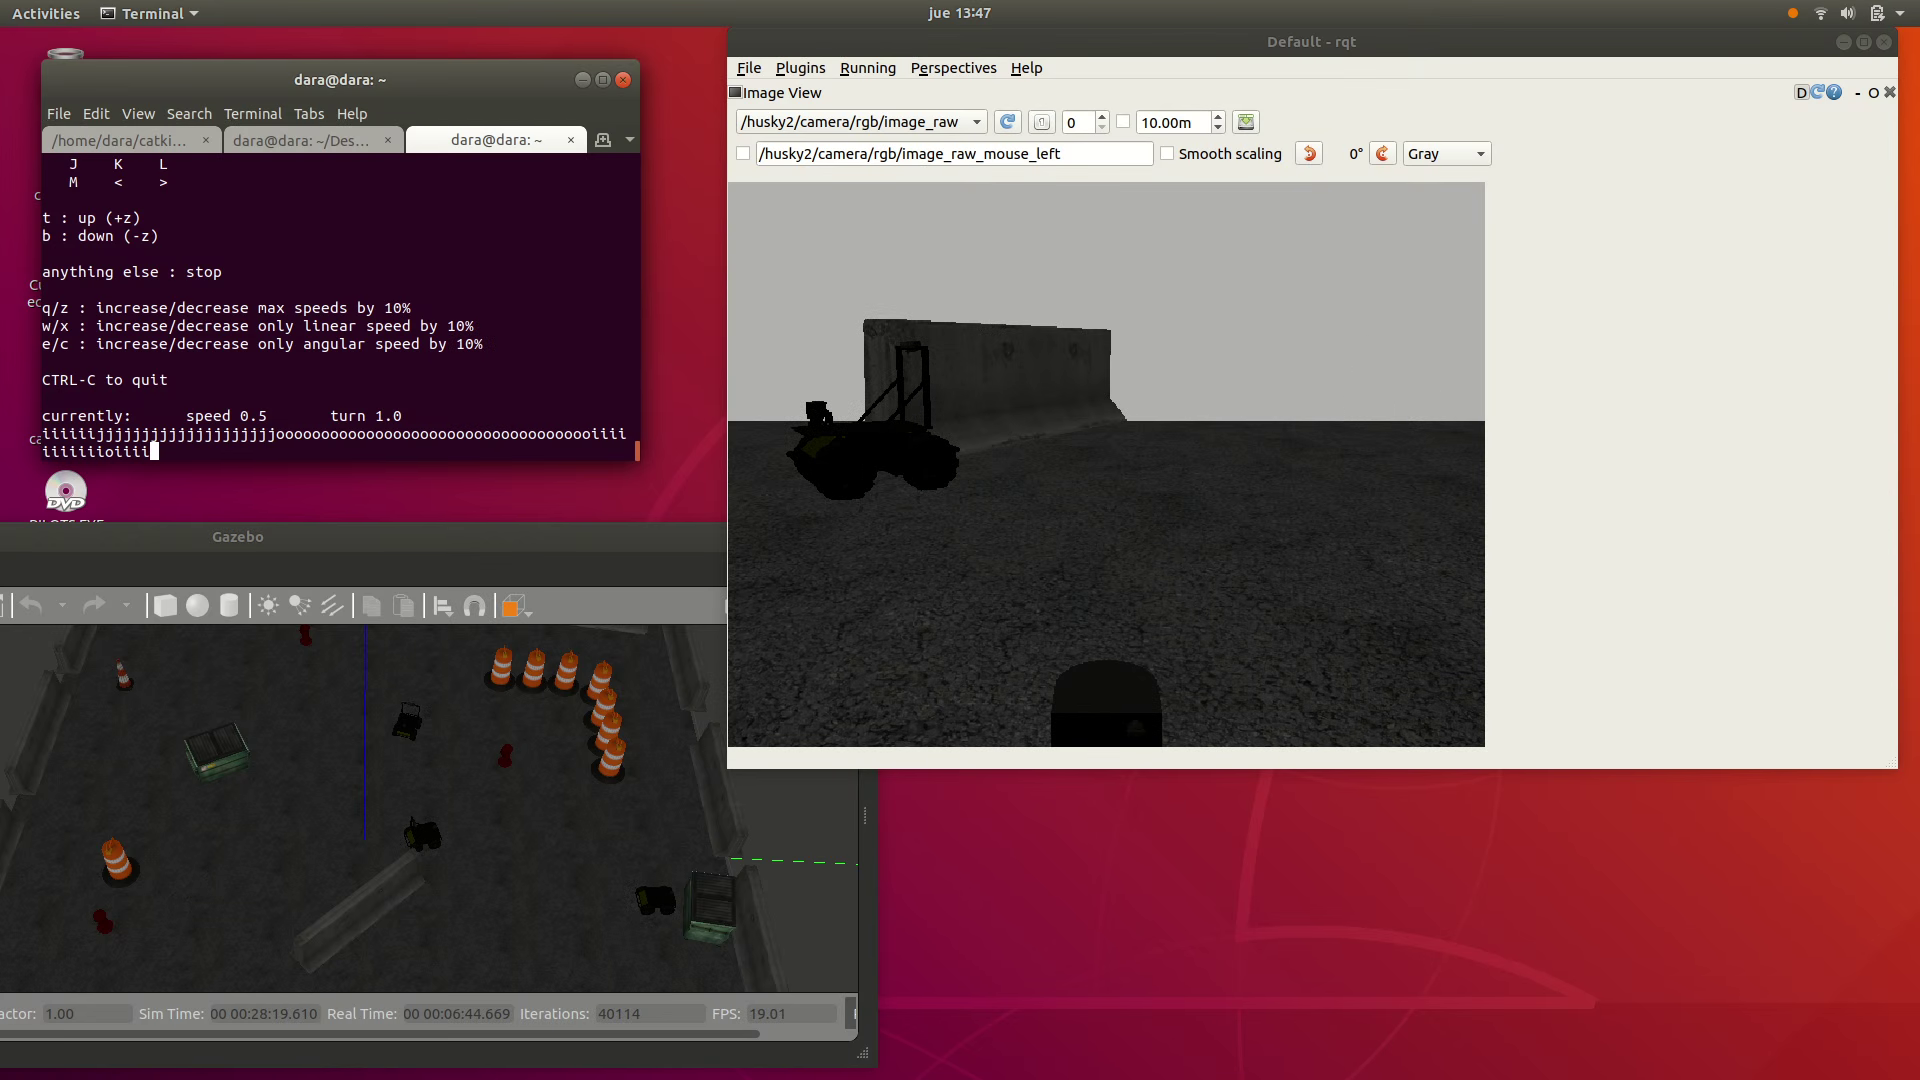husky: (786, 421, 961, 501), (635, 885, 678, 917), (403, 822, 443, 853), (393, 713, 421, 742)
